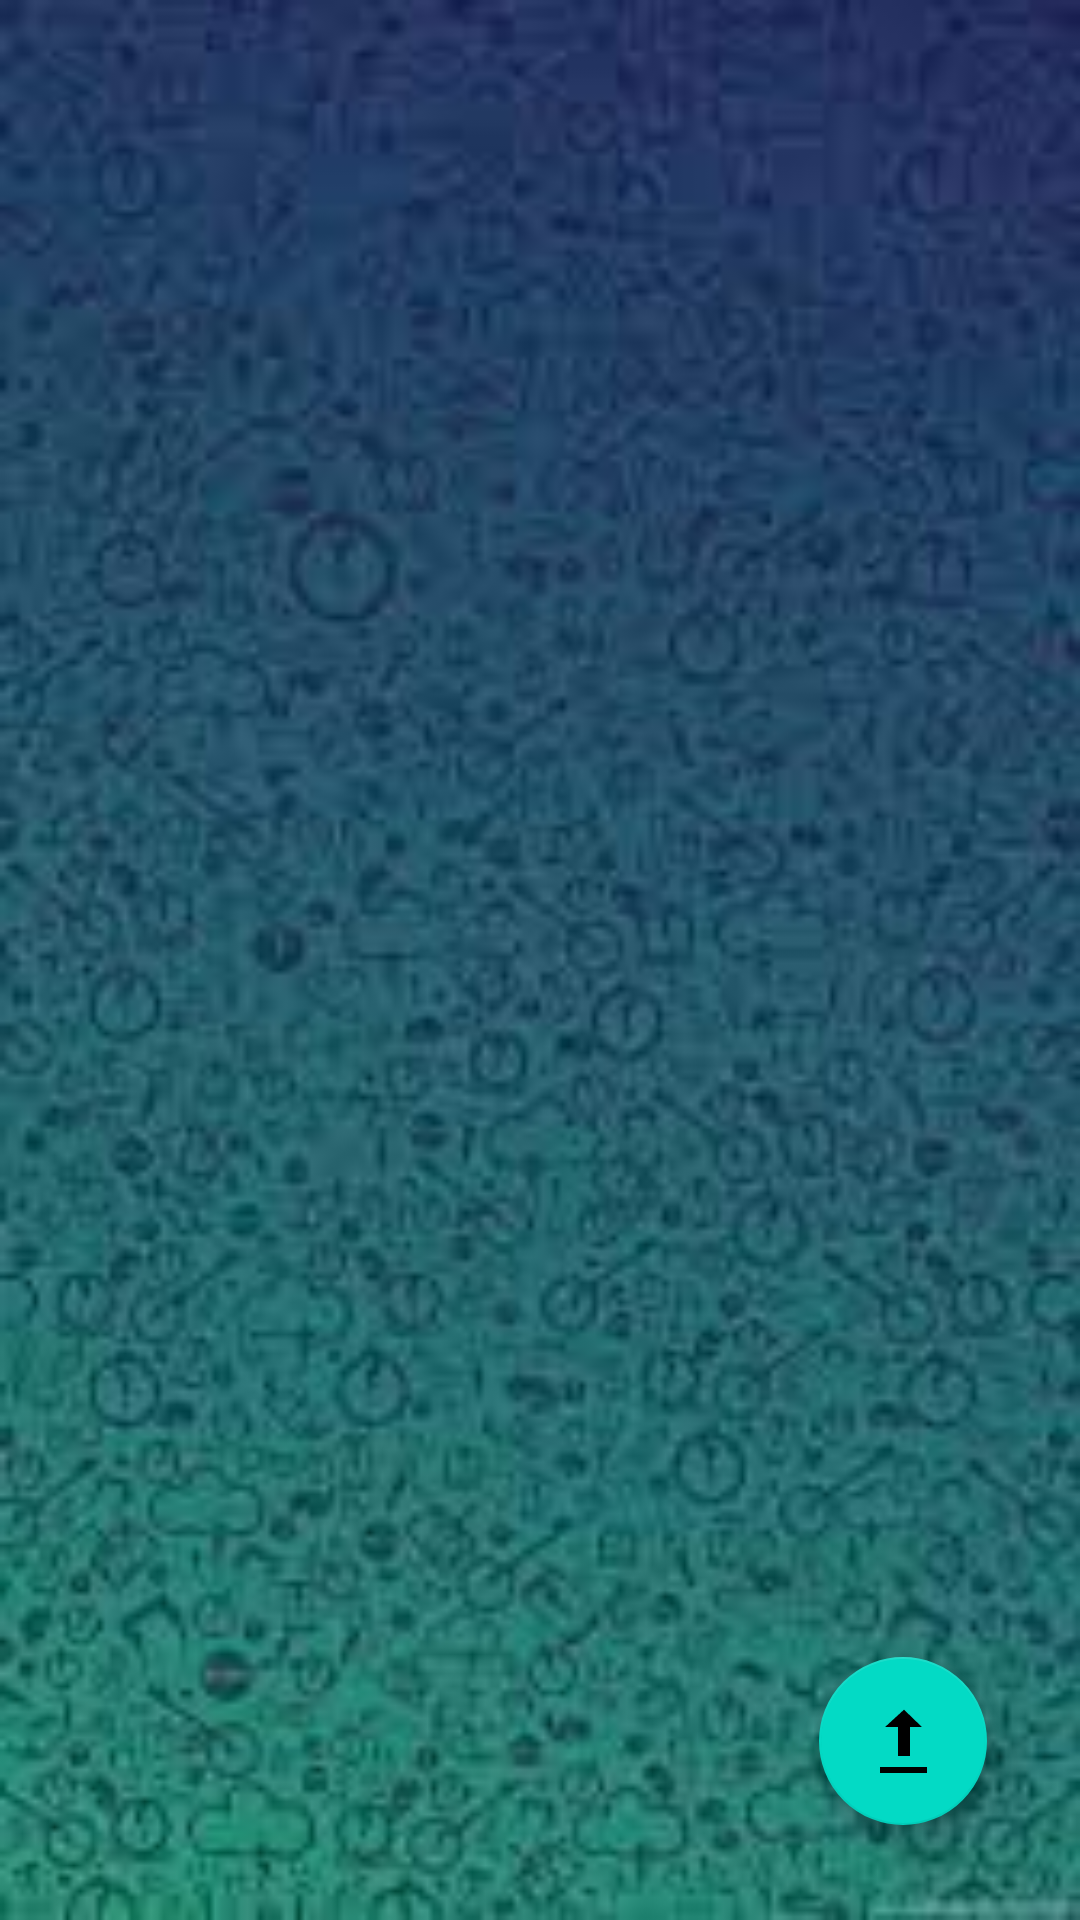

Screen size 1080 x 1920. Icon name, then its center in pixels as (x,y):
upload: (903,1741)
